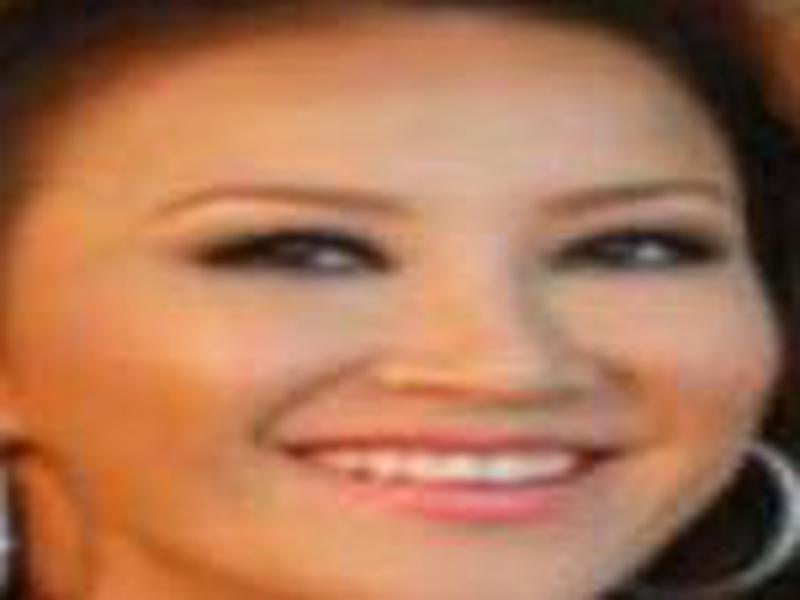without_mask: (42, 21, 778, 591)
